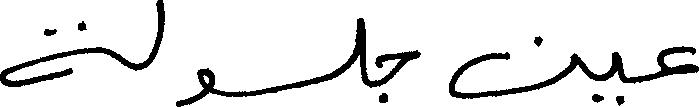X: (450, 31, 579, 103), (0, 16, 98, 91), (375, 45, 419, 106), (657, 41, 698, 82), (176, 63, 214, 106), (145, 0, 164, 72), (609, 47, 622, 106), (356, 13, 365, 89)
